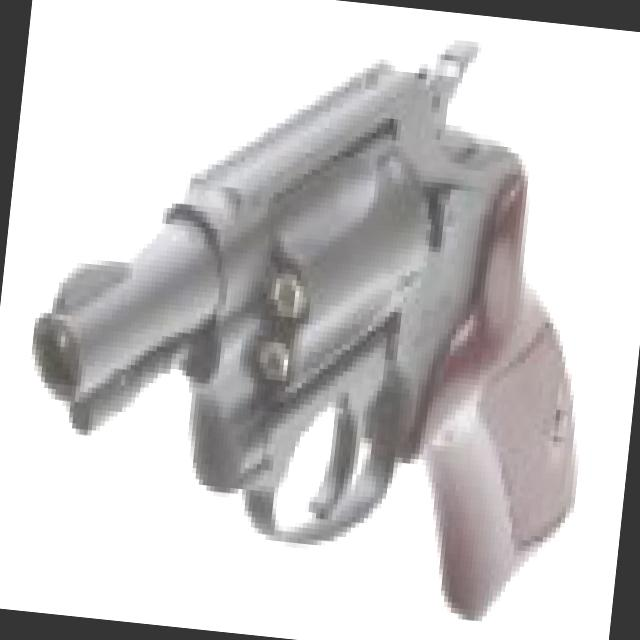handgun: (2, 0, 623, 609)
